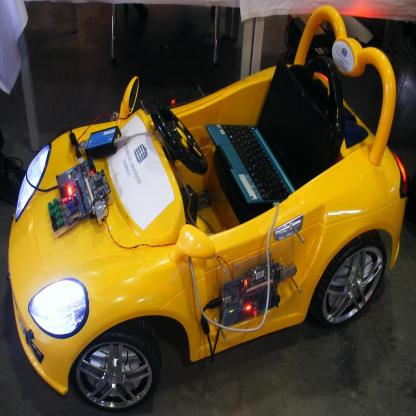board: (205, 60, 333, 205)
